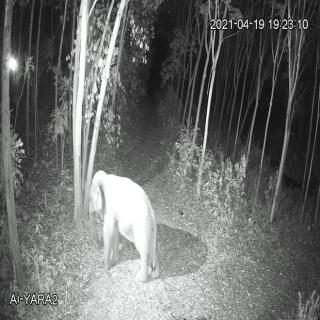Elephant: (84, 166, 169, 281)
